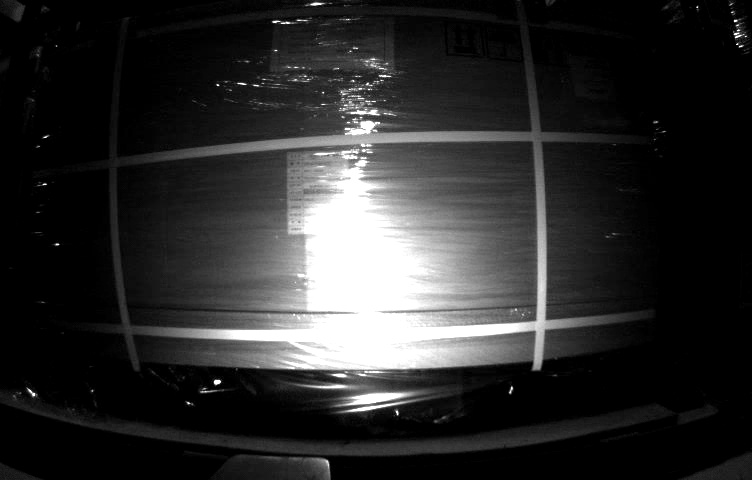True Barcode: (574, 59, 612, 97)
